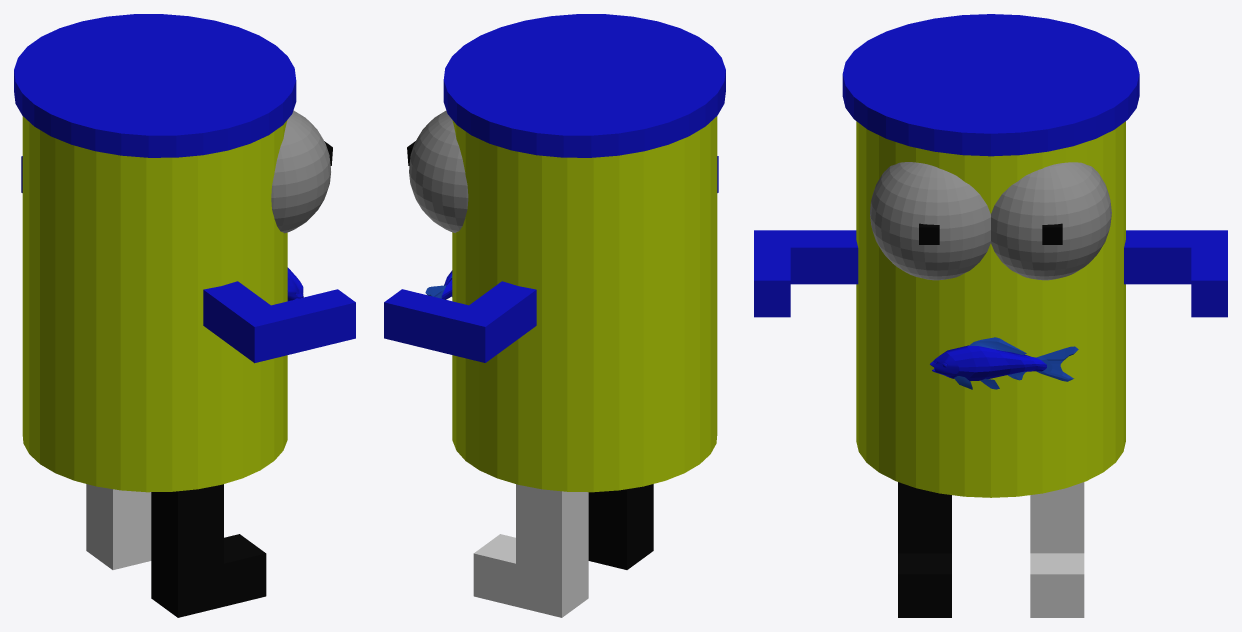
File: player.obj
3 views of the same model, side by side, from view 1: azimuth 30°, elevation 25°; view 2: azimuth 150°, elevation 25°; view 3: azimuth 270°, elevation 25° (orthographic).
Visible parts, largest first — view 1: Cylinder, Cylinder.001, Cube.005, Cube.003, Sphere, Cube.004; view 2: Cylinder, Cylinder.001, Cube.004, Cube.002, Sphere.001, Cube.005; view 3: Cylinder, Cylinder.001, Sphere, Sphere.001, Cube.004, Cube.003, Cube.005, Cube.002, finalfish.
Boxes of the visible parts, bbox=[...] form: Cylinder: bbox=[22, 116, 287, 492]; Cylinder.001: bbox=[14, 14, 296, 157]; Cube.005: bbox=[151, 484, 266, 617]; Cube.003: bbox=[203, 281, 355, 363]; Sphere: bbox=[271, 110, 330, 233]; Cube.004: bbox=[86, 484, 151, 569]; Cylinder: bbox=[452, 116, 717, 492]; Cylinder.001: bbox=[443, 14, 725, 157]; Cube.004: bbox=[473, 484, 588, 617]; Cube.002: bbox=[384, 281, 536, 362]; Sphere.001: bbox=[409, 110, 468, 232]; Cube.005: bbox=[588, 484, 653, 569]; Cylinder: bbox=[856, 121, 1125, 497]; Cylinder.001: bbox=[842, 14, 1139, 156]; Sphere: bbox=[870, 162, 990, 280]; Sphere.001: bbox=[991, 162, 1111, 280]; Cube.004: bbox=[1030, 482, 1084, 617]; Cube.003: bbox=[754, 230, 858, 317]; Cube.005: bbox=[898, 482, 951, 617]; Cube.002: bbox=[1124, 230, 1227, 317]; finalfish: bbox=[930, 337, 1078, 389].
Size of the model in its own units: 4.58 by 8.37 by 7.02.
